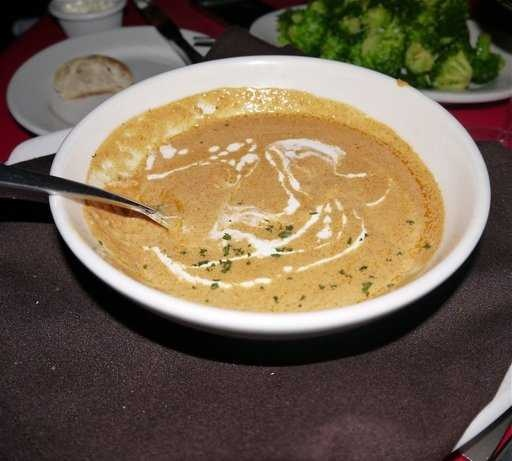soup: (93, 77, 450, 304)
